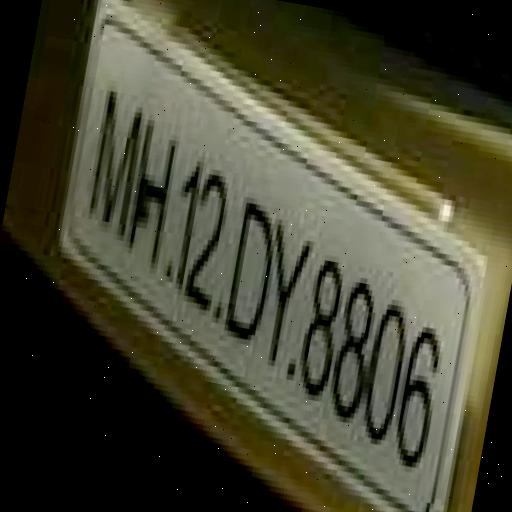number plate: (23, 32, 512, 479)
